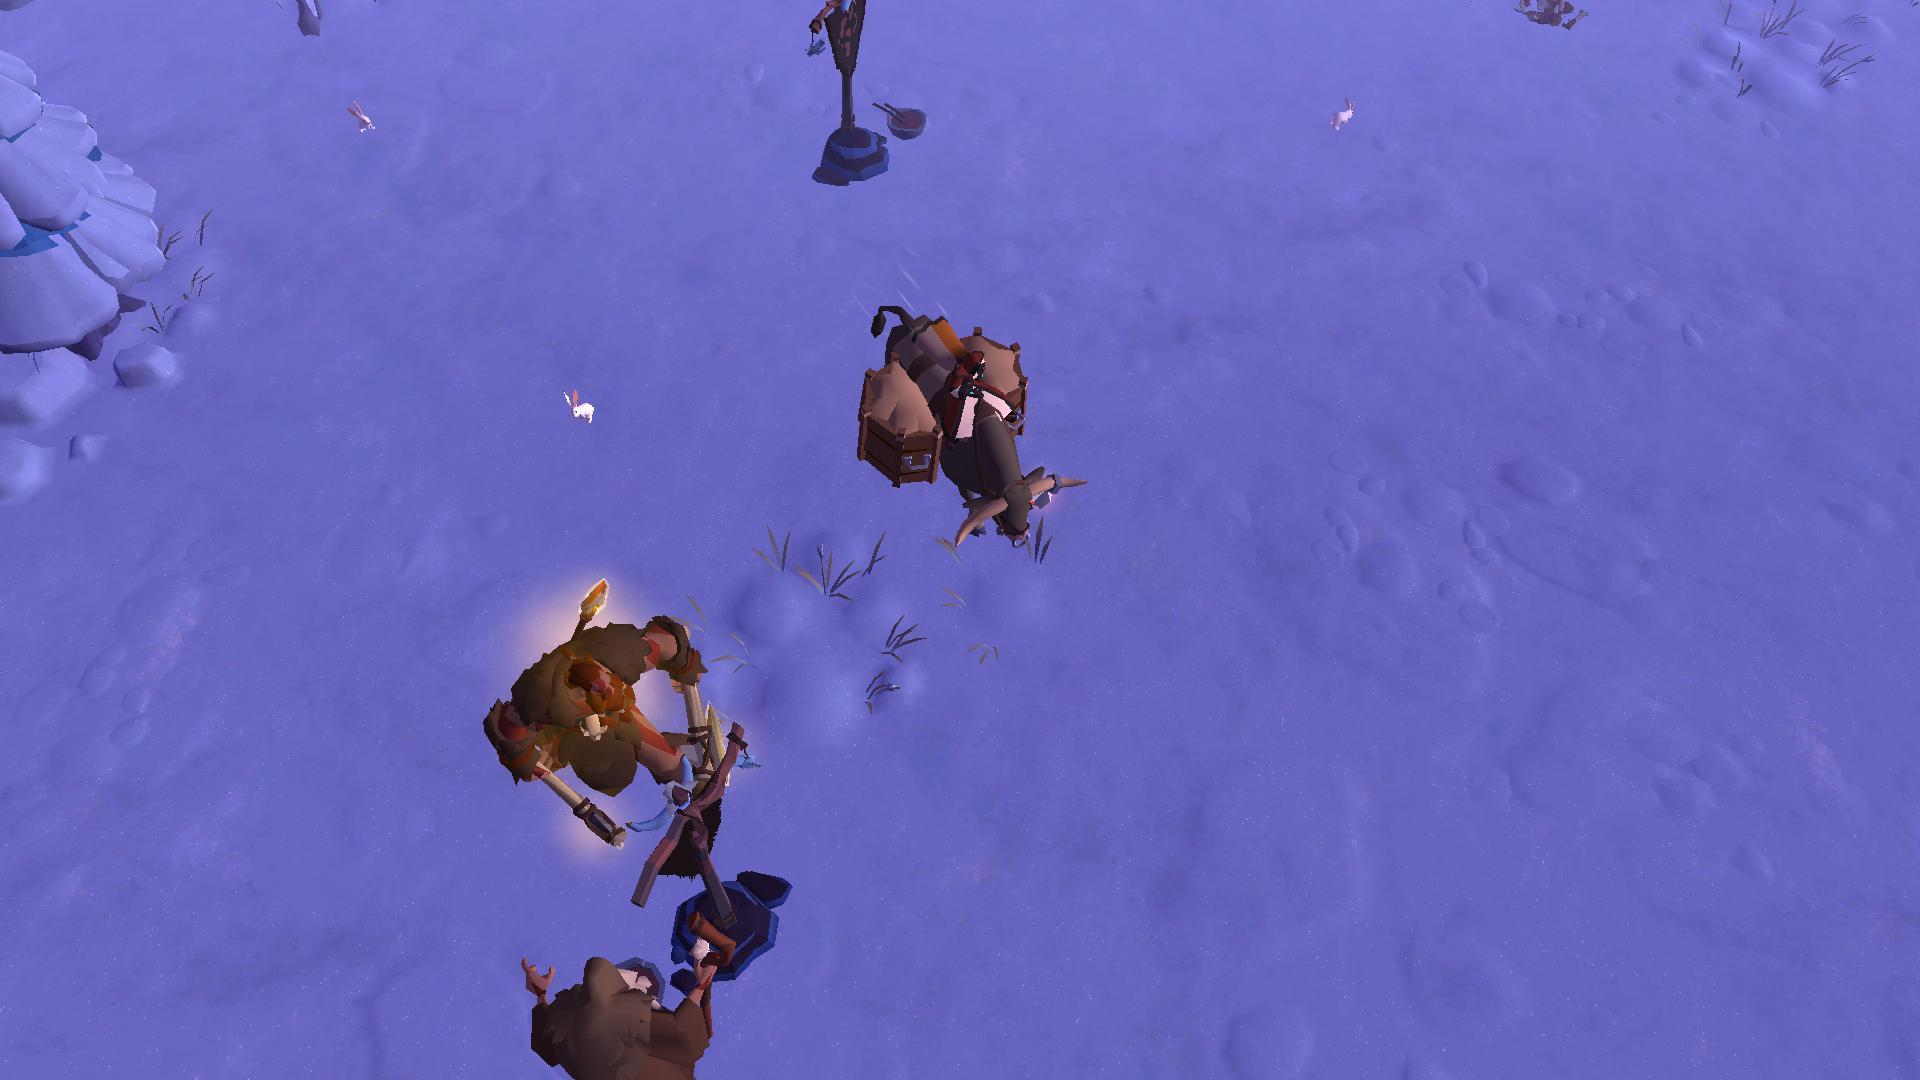enemy_factionKeeper: (491, 616, 716, 828)
